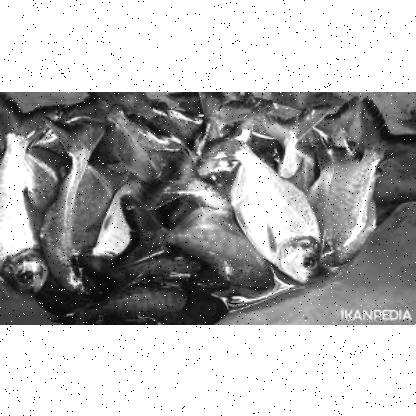ikan-pacu: (116, 203, 278, 289), (230, 142, 322, 284), (325, 137, 383, 259)
